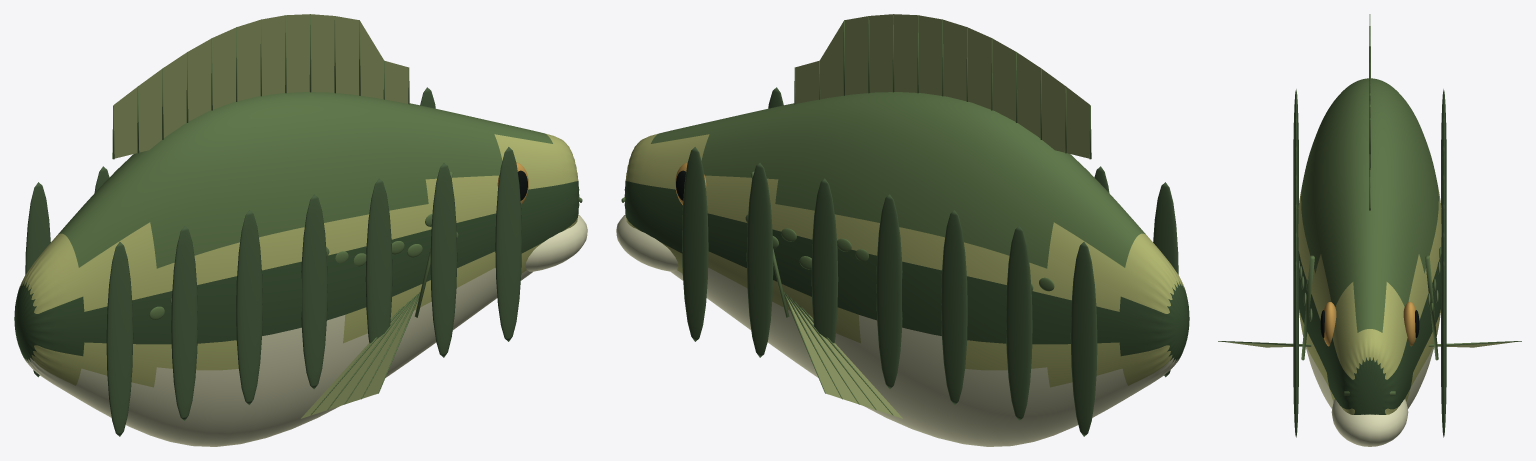
Rendered from SM_PerchBody.fbx.
3 renders of one model, left to right at view 1: azimuth 30°, elevation 25°; view 2: azimuth 150°, elevation 25°; view 3: azimuth 270°, elevation 25°, orthographic. The views are drawn at different scales.
Parts seen in each view (by area): view 1: SM_PerchBody; view 2: SM_PerchBody; view 3: SM_PerchBody.
Boxes of the visible parts, box(x1,y1,x2,y2) form: SM_PerchBody: box(14, 14, 587, 446); SM_PerchBody: box(616, 14, 1189, 446); SM_PerchBody: box(1218, 14, 1521, 446).
Bounding box in the file's own units: 29.74 × 15.22 × 20.81.
